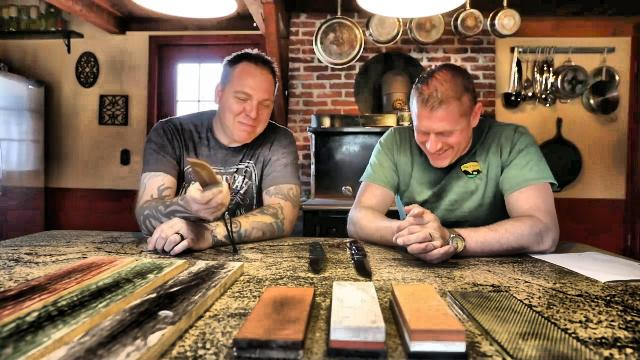knife: (180, 146, 233, 206)
